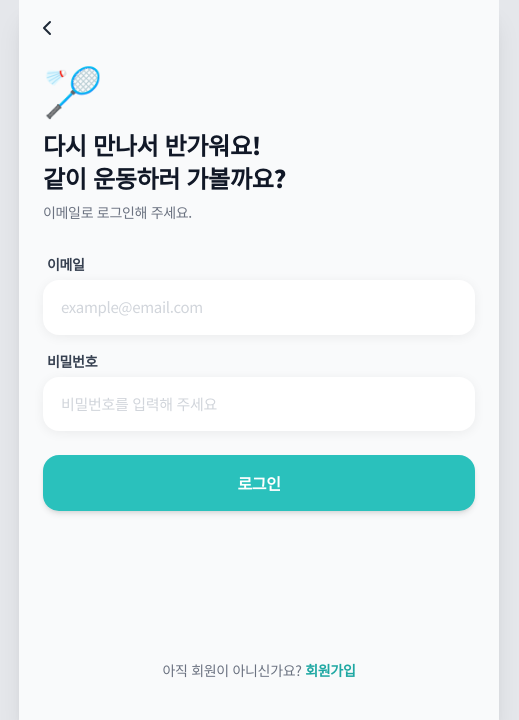
Test case: 로그인 성공 시 토큰을 저장하고 메인으로 이동, 마이페이지에 프로필과 로그아웃이 보인다
The width and height of the screenshot is (519, 720).
In the field labelled "이메일": (259, 307) [43,280,475,334], type "test@example.com"
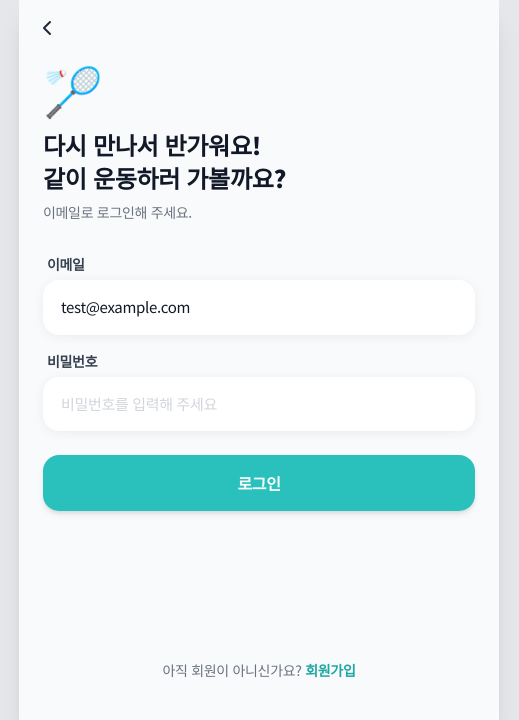
In the password field labelled "비밀번호": (259, 404) [43,376,475,431], type "password123"
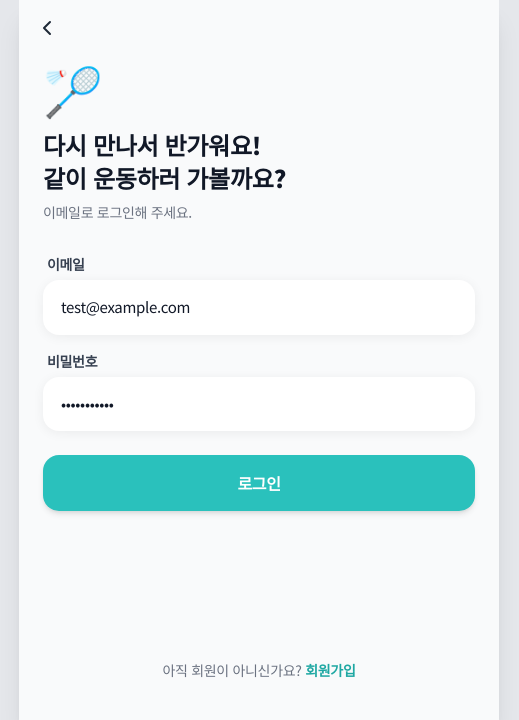
Click the button "로그인": (259, 483) [43,455,475,511]
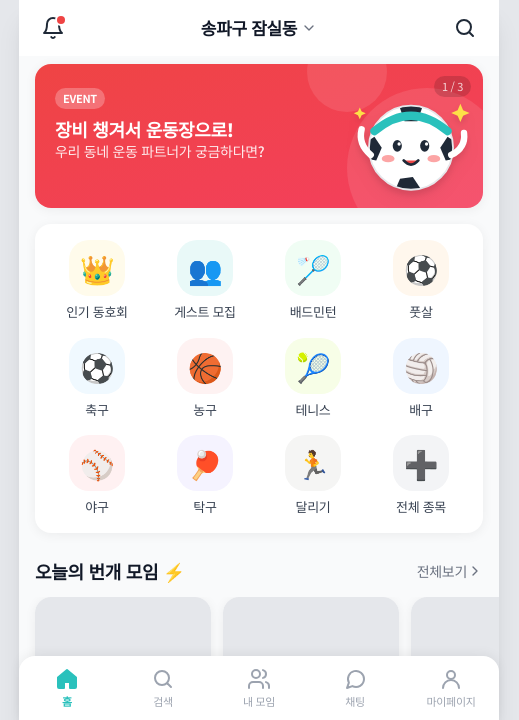
Check: the heading "오늘의 번개 모임 ⚡" is shown, box [35,556,185,584]
Click the button "마이페이지": (451, 688) [403,656,499,719]
(page scrolled)
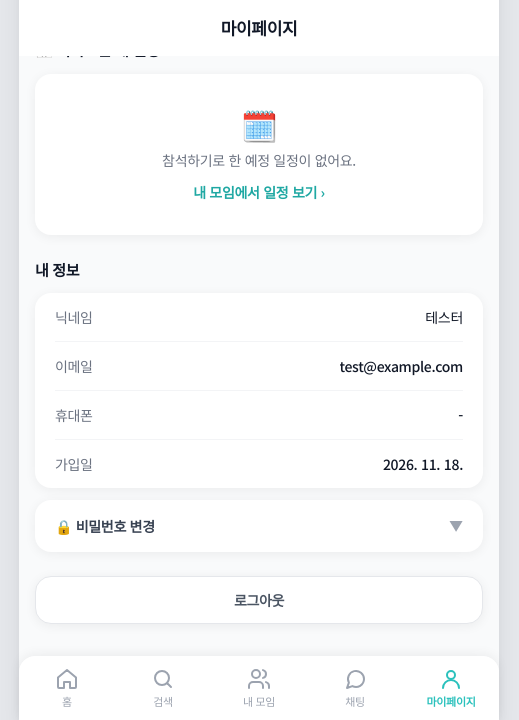
Click the button "로그아웃": (259, 600) [35,576,483,624]
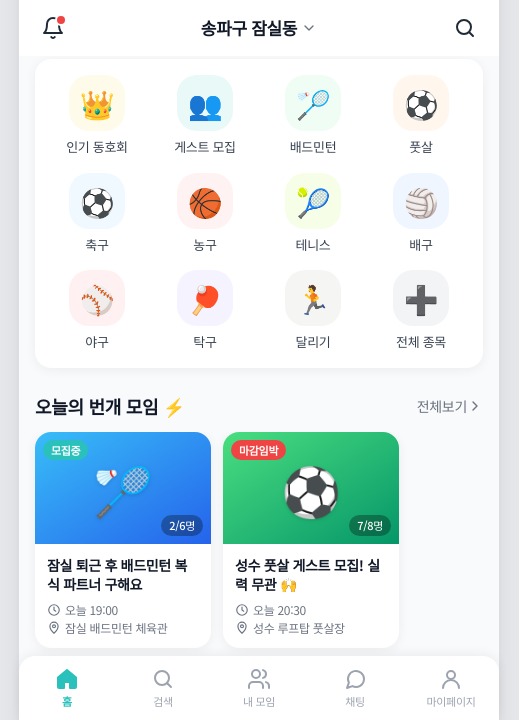
Check: the heading "오늘의 번개 모임 ⚡" is shown, box [35,392,185,420]
